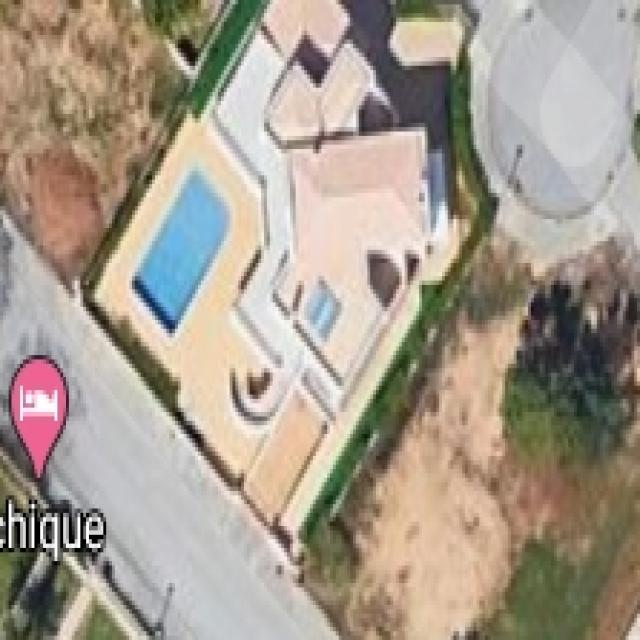pool: (92, 136, 272, 365)
